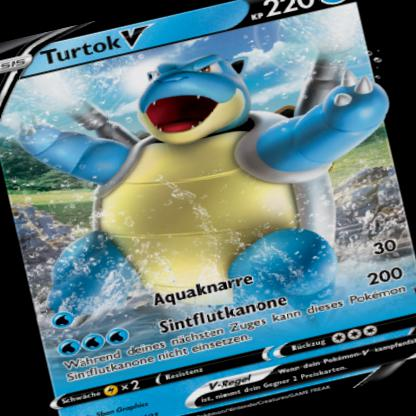Blastoise: (2, 2, 416, 350)
